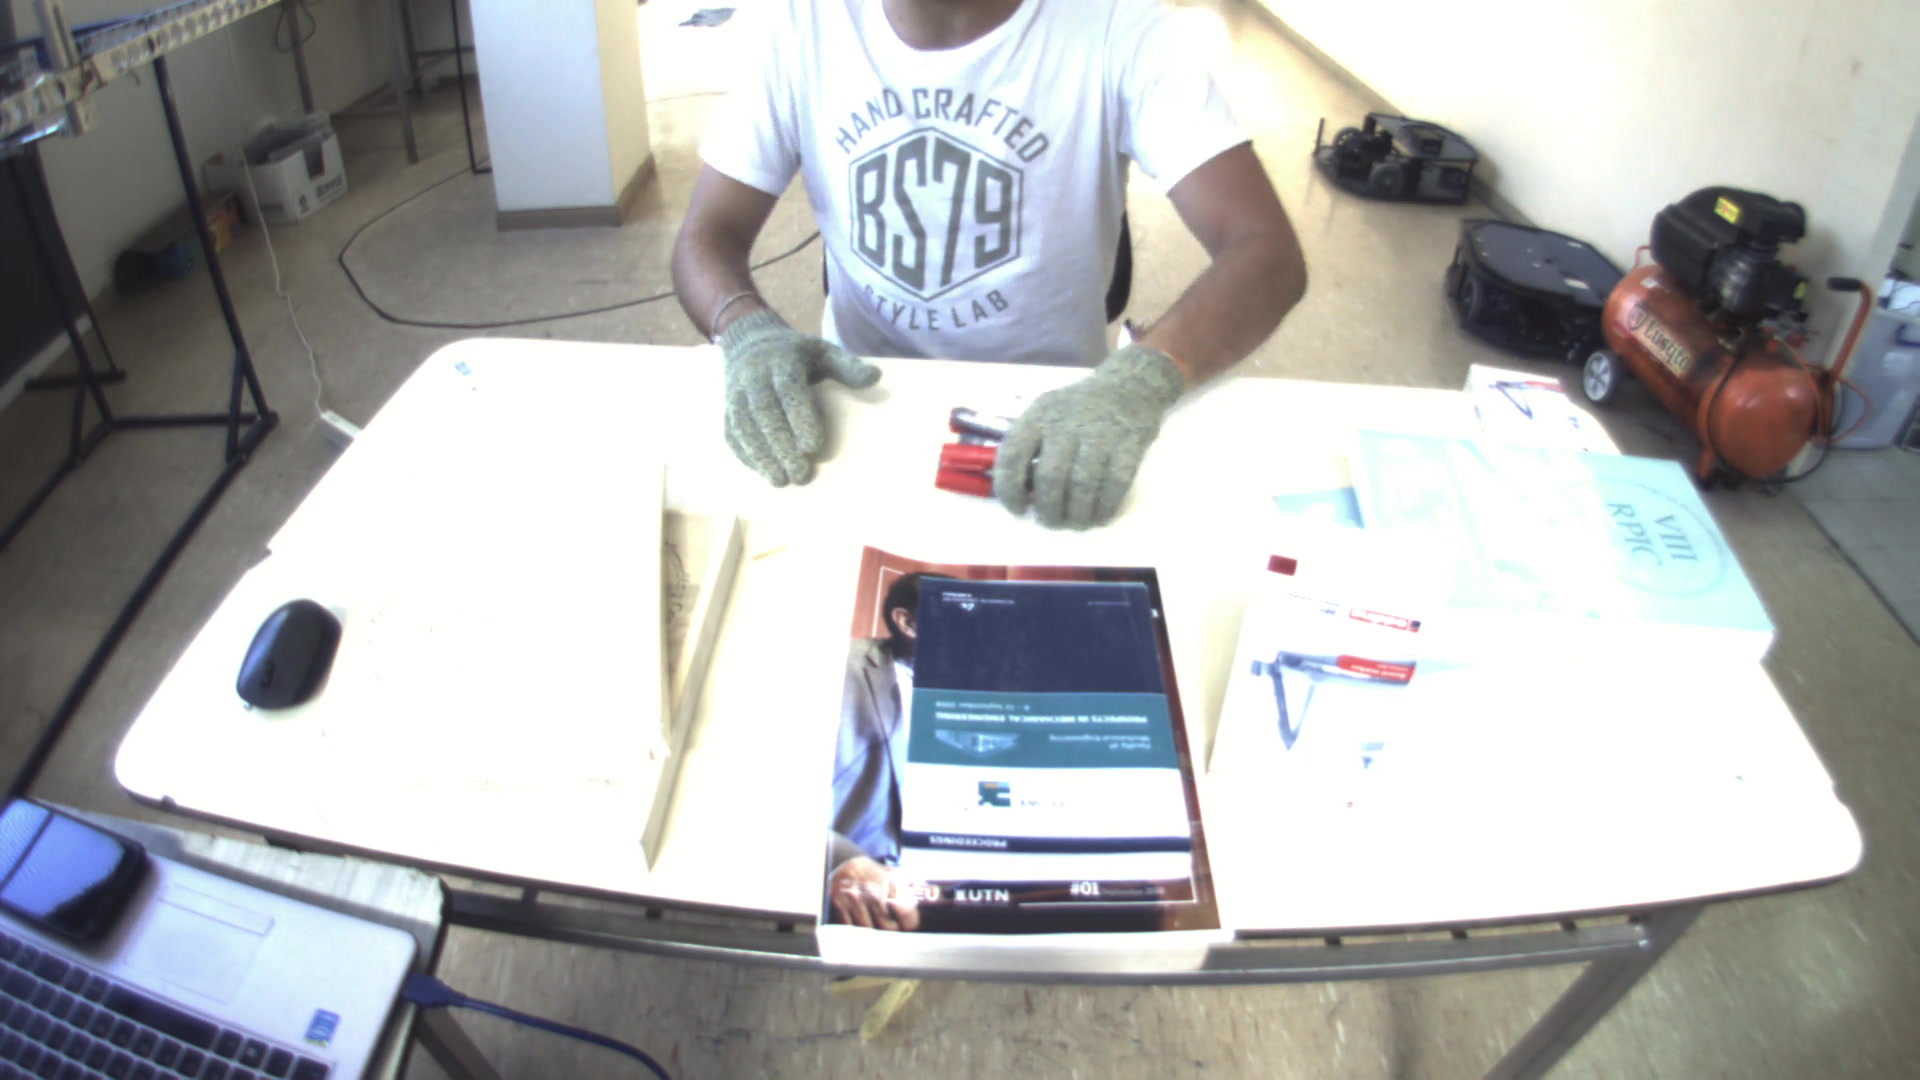hand: (972, 334, 1203, 531), (703, 297, 889, 484)
